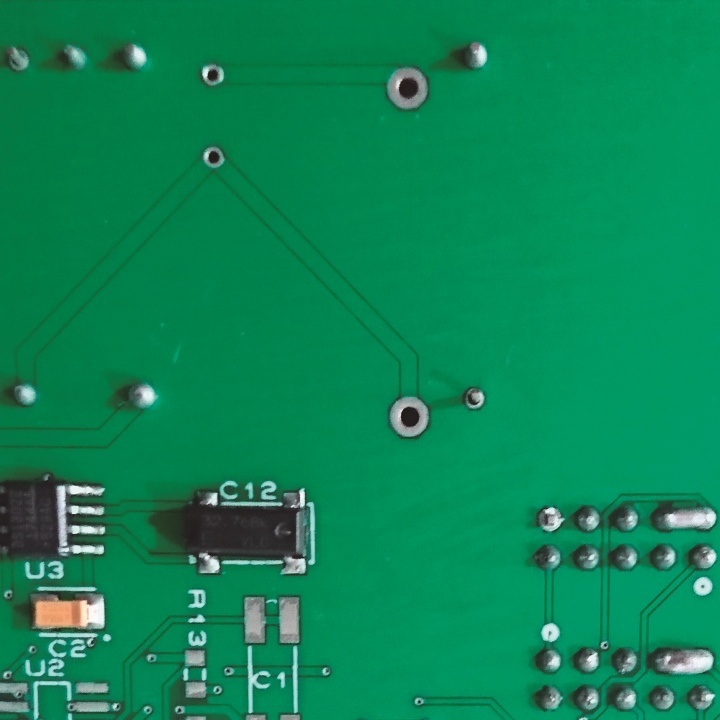F: (382, 63, 433, 114), (382, 395, 430, 440), (3, 43, 31, 79), (535, 503, 565, 536), (199, 60, 229, 90), (200, 143, 229, 171), (460, 385, 487, 414)
P: (648, 647, 718, 678), (649, 503, 718, 534)
